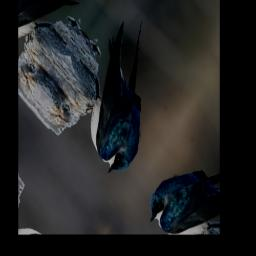Swallow: (59, 7, 191, 184)
